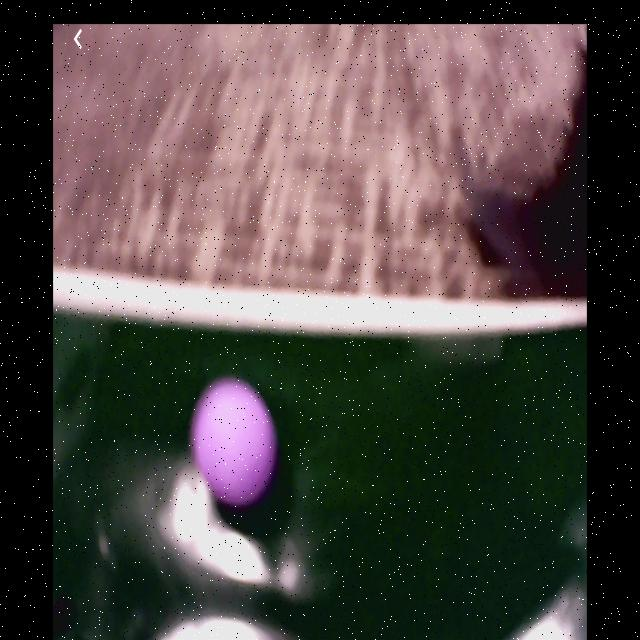ball: (191, 376, 280, 509)
